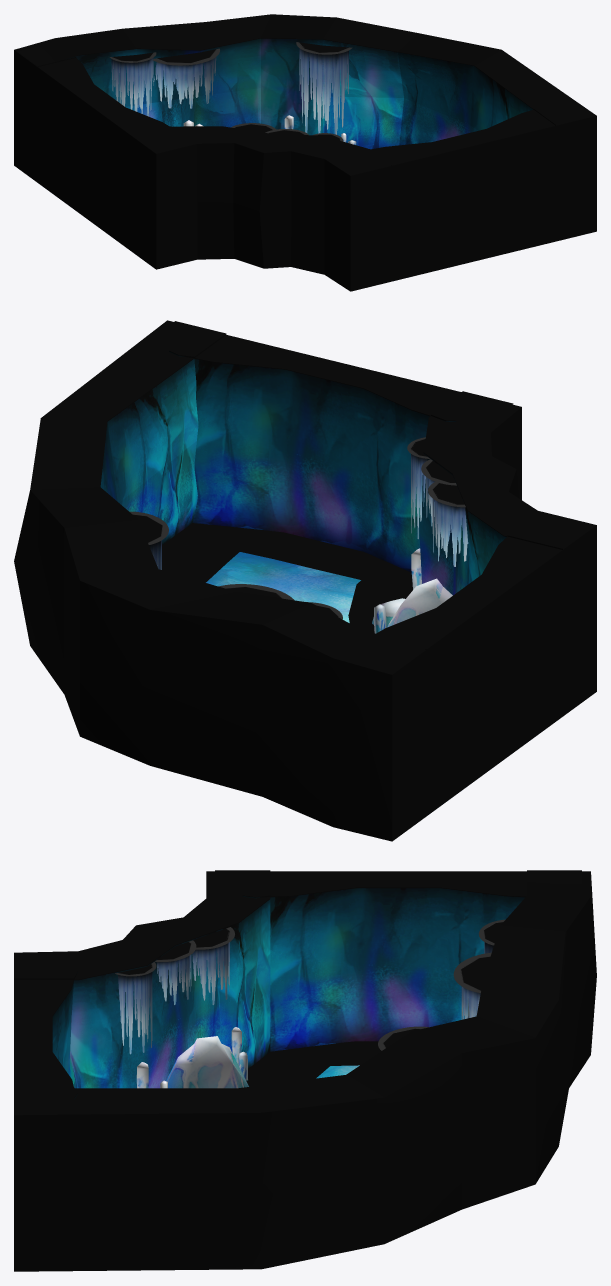
The model's file is Dungeon_072_RoadL_002.fbx.
3 views of the same model, one above another, from view 1: azimuth 30°, elevation 25°; view 2: azimuth 150°, elevation 25°; view 3: azimuth 270°, elevation 25° (orthographic). The views are drawn at different scales.
Visible parts, largest first — view 1: Dun_072_RoadL_002_wall, Dun_072_Door_002 (×2), Dun_072_OB_Icicle; view 2: Dun_072_RoadL_002_wall, Dun_072_Door_002 (×2), Dun_072_RoadL_002_shadow, Dun_072_OB_Icicle, Dun_072_RoadL_002_ground, Dun_072_Door_002_shadow, Dun_072_OB_Stone02, Dun_072_OB_Ice_crystals01; view 3: Dun_072_RoadL_002_wall, Dun_072_Door_002 (×2), Dun_072_OB_Icicle, Dun_072_OB_Stone02, Dun_072_RoadL_002_shadow, Dun_072_OB_Ice_crystals01, Dun_072_Door_002_shadow.
Boxes of the visible parts, left/top/right/bottom form: Dun_072_RoadL_002_wall: left=14, top=14, right=596, bottom=291; Dun_072_Door_002 (×2): left=18, top=46, right=590, bottom=281; Dun_072_OB_Icicle: left=109, top=42, right=352, bottom=141; Dun_072_RoadL_002_wall: left=14, top=320, right=596, bottom=841; Dun_072_Door_002 (×2): left=143, top=321, right=591, bottom=816; Dun_072_RoadL_002_shadow: left=162, top=523, right=412, bottom=634; Dun_072_OB_Icicle: left=129, top=437, right=468, bottom=619; Dun_072_RoadL_002_ground: left=206, top=552, right=360, bottom=622; Dun_072_Door_002_shadow: left=240, top=530, right=382, bottom=579; Dun_072_OB_Stone02: left=387, top=578, right=452, bottom=627; Dun_072_OB_Ice_crystals01: left=373, top=548, right=421, bottom=633; Dun_072_RoadL_002_wall: left=14, top=871, right=596, bottom=1271; Dun_072_Door_002 (×2): left=14, top=870, right=581, bottom=1110; Dun_072_OB_Icicle: left=115, top=919, right=505, bottom=1054; Dun_072_OB_Stone02: left=166, top=1036, right=248, bottom=1088; Dun_072_RoadL_002_shadow: left=246, top=1042, right=348, bottom=1086; Dun_072_OB_Ice_crystals01: left=136, top=1027, right=247, bottom=1088; Dun_072_Door_002_shadow: left=331, top=1041, right=381, bottom=1065.
Size of what is drawn, in the model's own units: 6.75 by 2.08 by 6.82.
